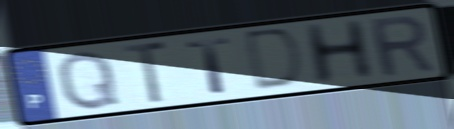D: (244, 25, 306, 94)
H: (300, 16, 378, 88)
Q: (55, 48, 123, 113)
R: (365, 12, 438, 81)
T: (121, 39, 170, 106), (184, 35, 235, 96)
